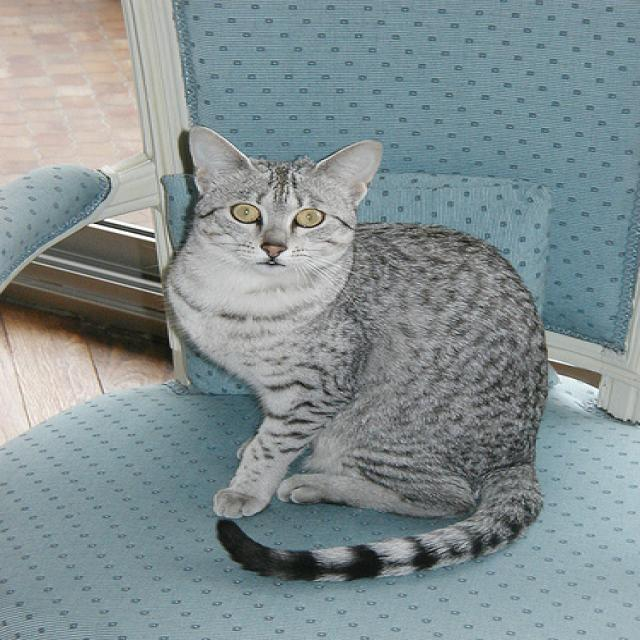Egyptian_Mau: (161, 118, 391, 292)
